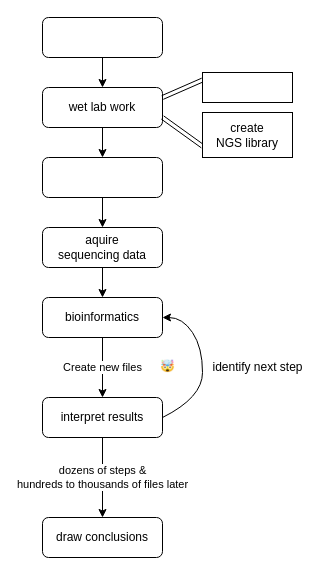
The diagram is 330 pixels wide and 575 high, and some of its shapes have lost their labels. The centre of each missing label's shape, as x and y in pixels:
"extract DNA" goes at pixel 247 87.
"sample specimens" goes at pixel 102 37.
"sequence samples" goes at pixel 102 177.
